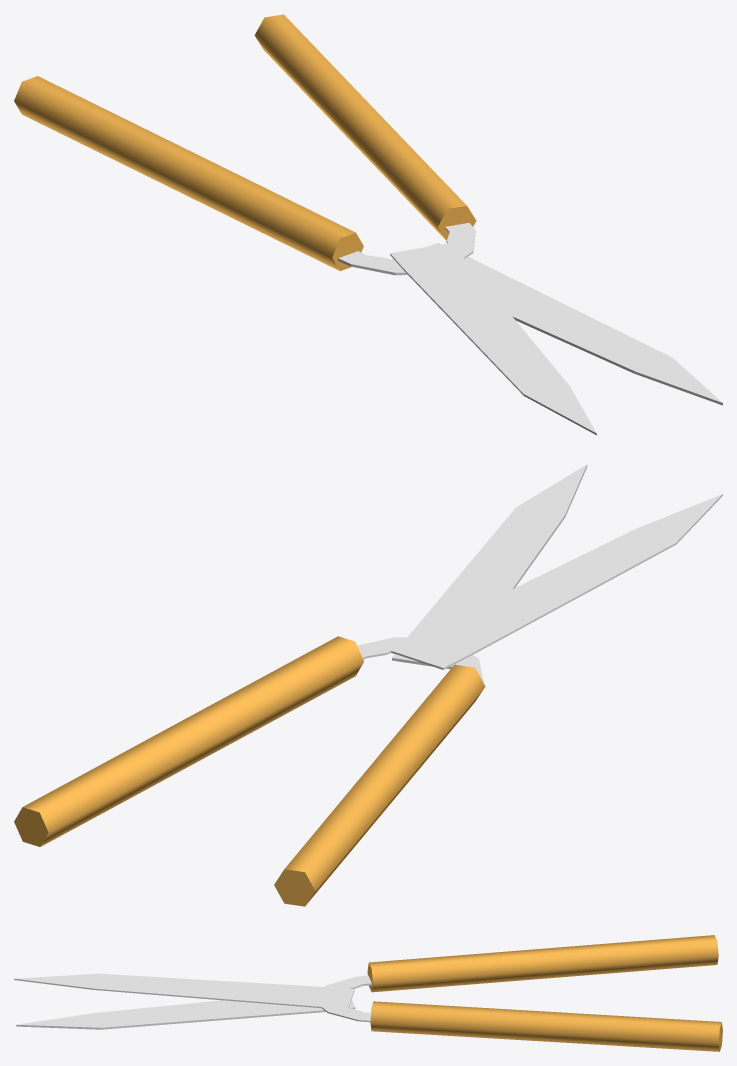
The model's file is Hedge_shears.fbx.
3 renders of one model, top to bottom at view 1: azimuth 30°, elevation 25°; view 2: azimuth 150°, elevation 25°; view 3: azimuth 270°, elevation 25°, orthographic. The views are drawn at different scales.
Parts seen in each view (by area): view 1: hedge_shears; view 2: hedge_shears; view 3: hedge_shears.
Part boxes in pixels (x1,y1,x2,y2): hedge_shears: (14,14,722,435); hedge_shears: (14,464,722,906); hedge_shears: (14,935,722,1051).
Size of the model in its own units: 20.94 by 2.34 by 63.06.
1 material, 1 textured.
